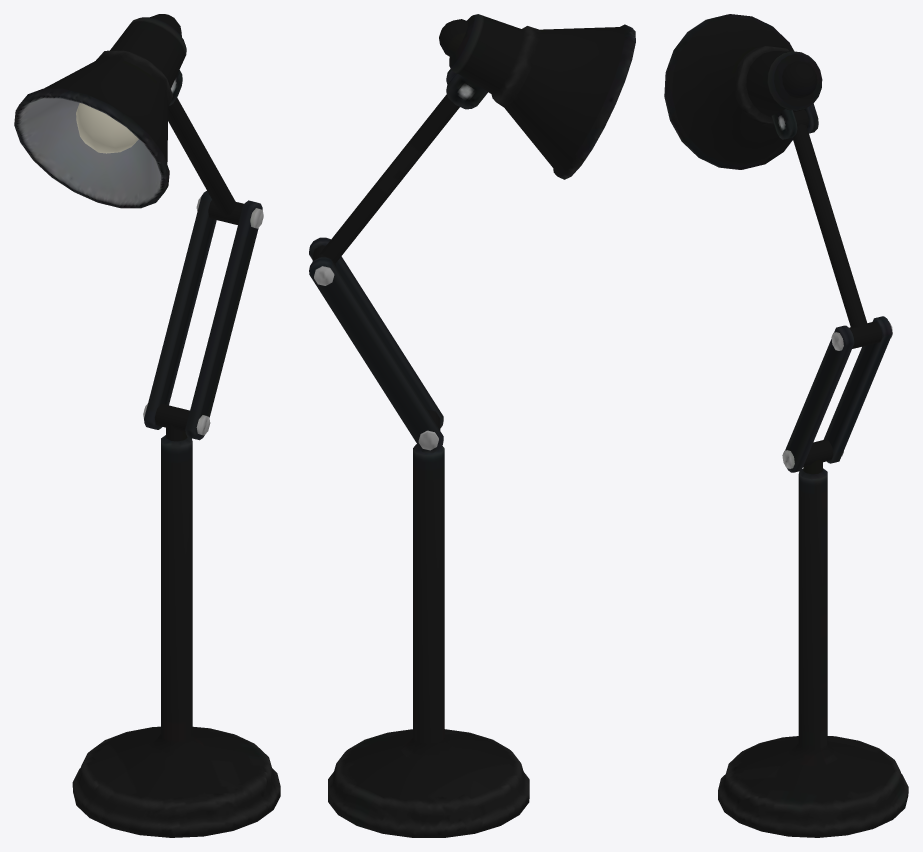
3 renders of one model, left to right at view 1: azimuth 30°, elevation 25°; view 2: azimuth 150°, elevation 25°; view 3: azimuth 270°, elevation 25°, orthographic. The views are drawn at different scales.
Size of the model in its own units: 7.11 by 19.22 by 5.85.
Materials: 1 (1 with a texture image).
